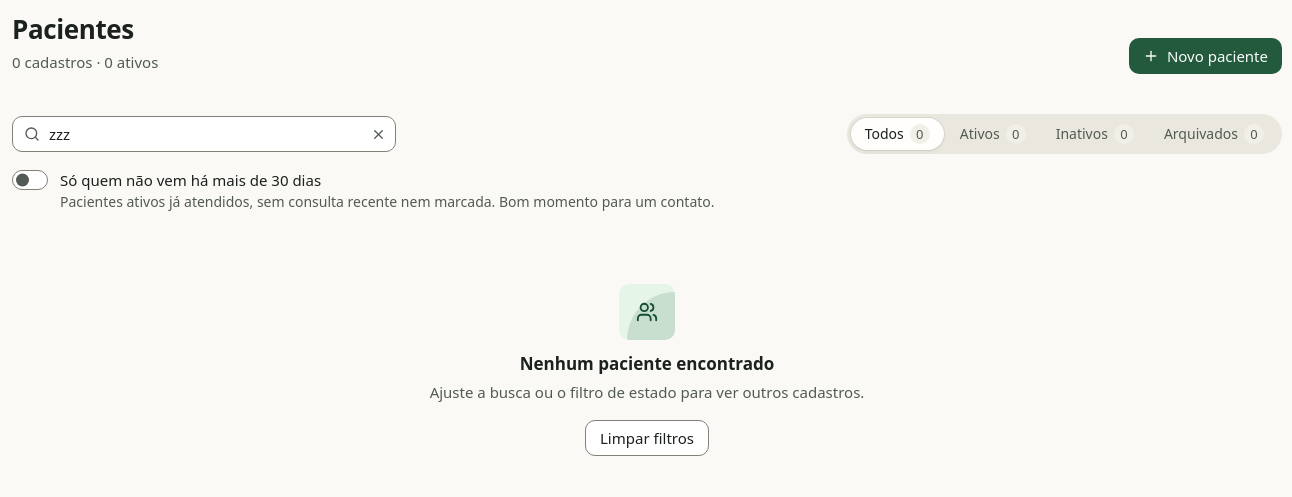
Test case: ListaPacientesPage › diferencia "sem resultados" de "sem cadastros" quando há filtro e permite limpá-lo
Expected: the heading "Nenhum paciente encontrado" is shown, x1=520 y1=352 x2=774 y2=375
Click the button "Limpar filtros".
click(647, 438)  # box x1=585 y1=420 x2=709 y2=456
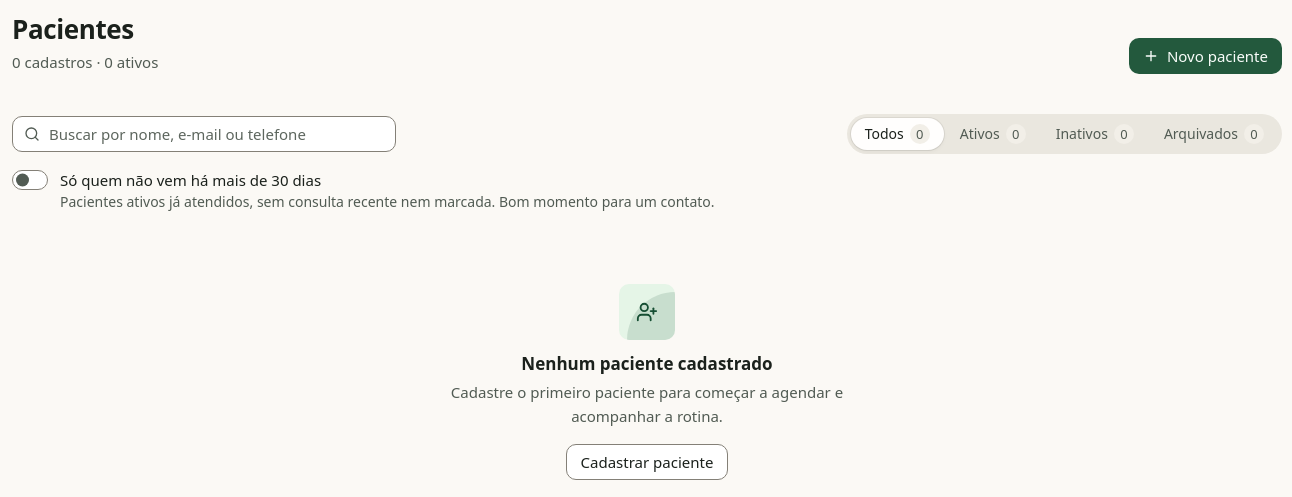
Expected: the heading "Nenhum paciente cadastrado" is shown, x1=521 y1=352 x2=773 y2=375
